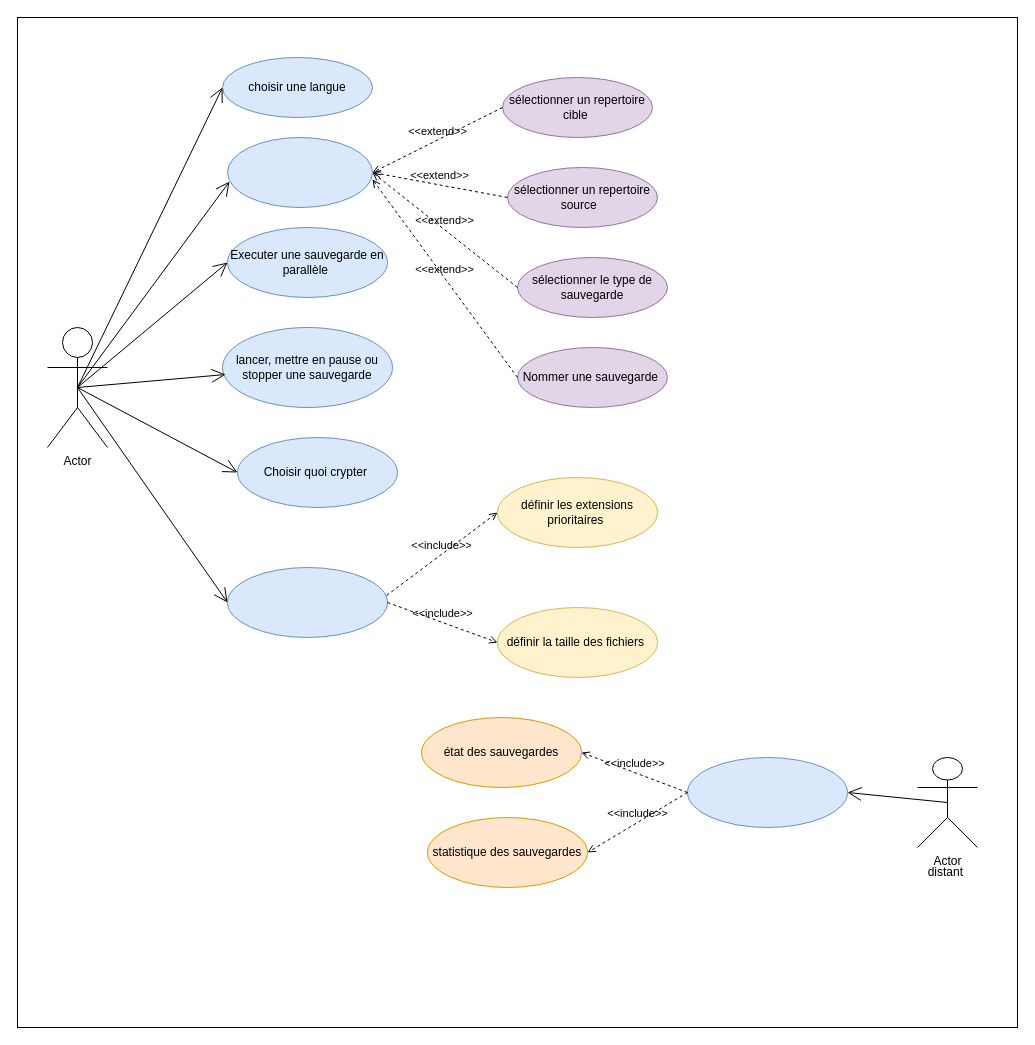
Image size: 1035x1045. Some labels were removed from this diagram. The shapes that lost their labels are listed below. From the top down, each one's centre as x and y in pixels, then its label:
At point 299,172: "Créer une sauvegarde".
At point 307,602: "Parametrer les fichiers".
At point 767,792: "Interagit avec l'application".
